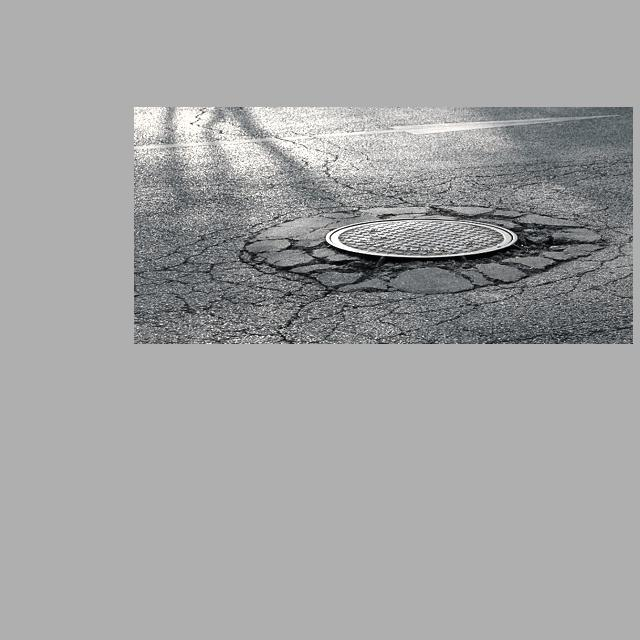circle: (230, 202, 571, 305)
